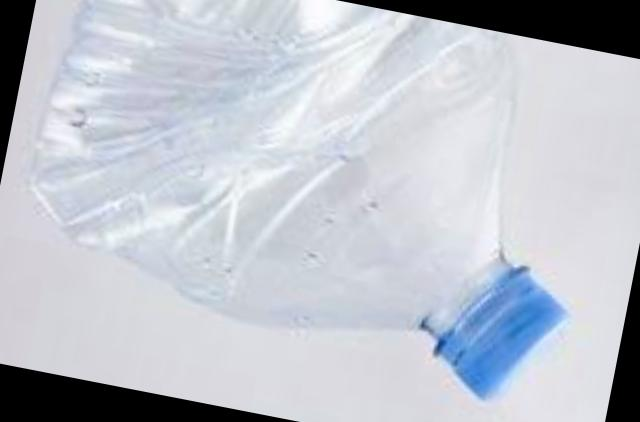plastic: (30, 0, 559, 395)
